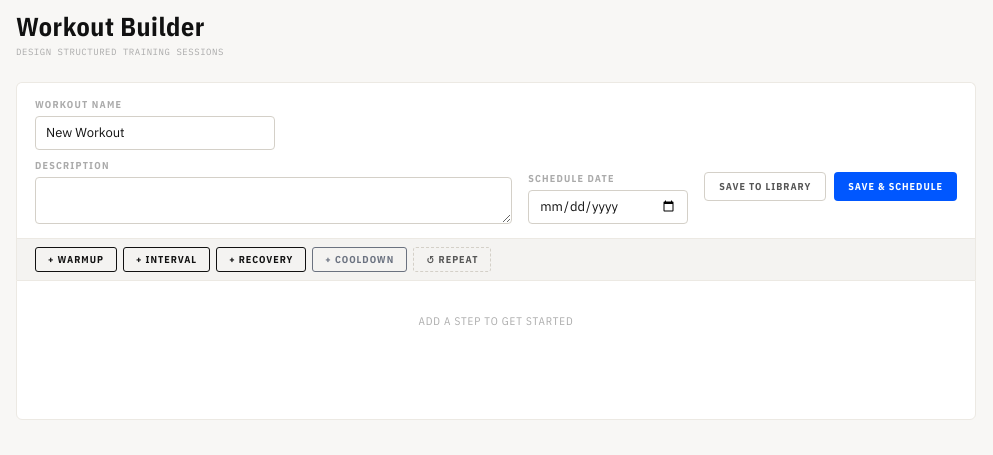
Test: test_add_cooldown › add cooldown → step at end
What coordinates should you click on to do the following:
click the button "+ Warmup"
I would click on:
 (76, 259)
Its box is [35,247,117,272].
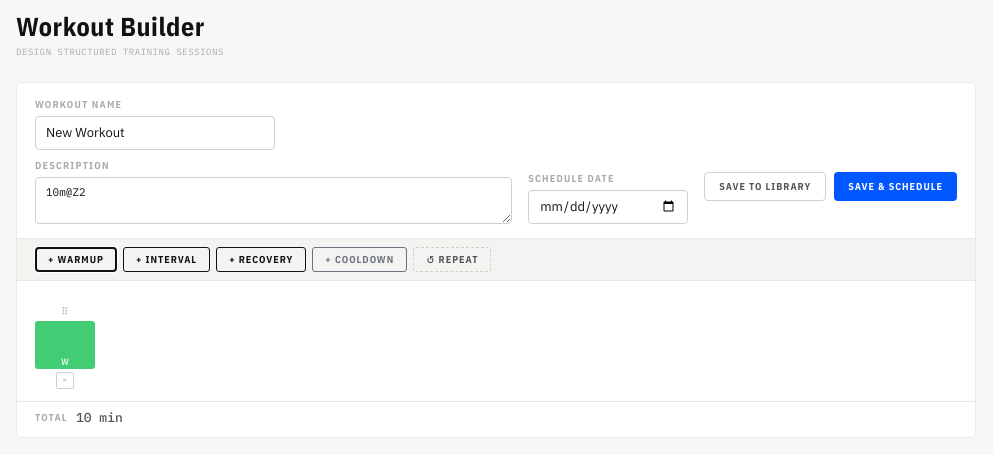
What coordinates should you click on to do the following:
click the button "+ Cooldown"
I would click on:
 (360, 259)
Its box is [312,247,407,272].
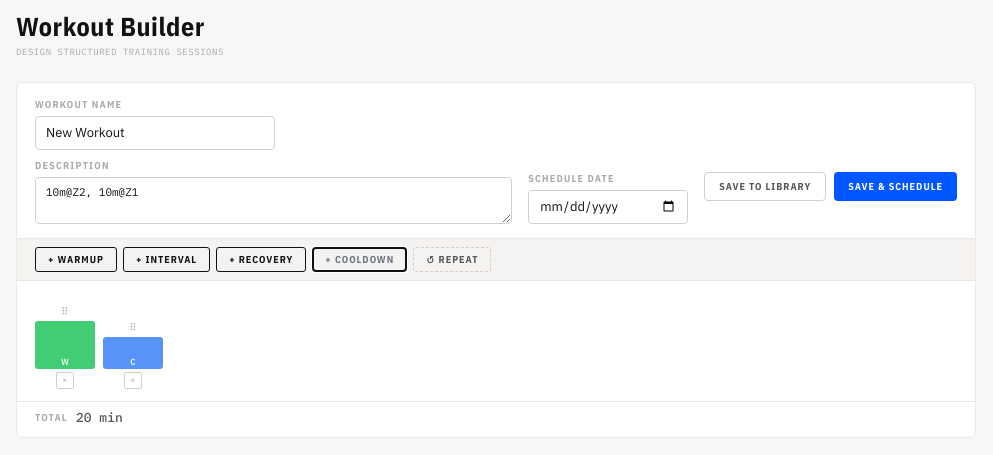
Expected: the element with test id "step-bar-1" is shown, [103,337,163,369]
